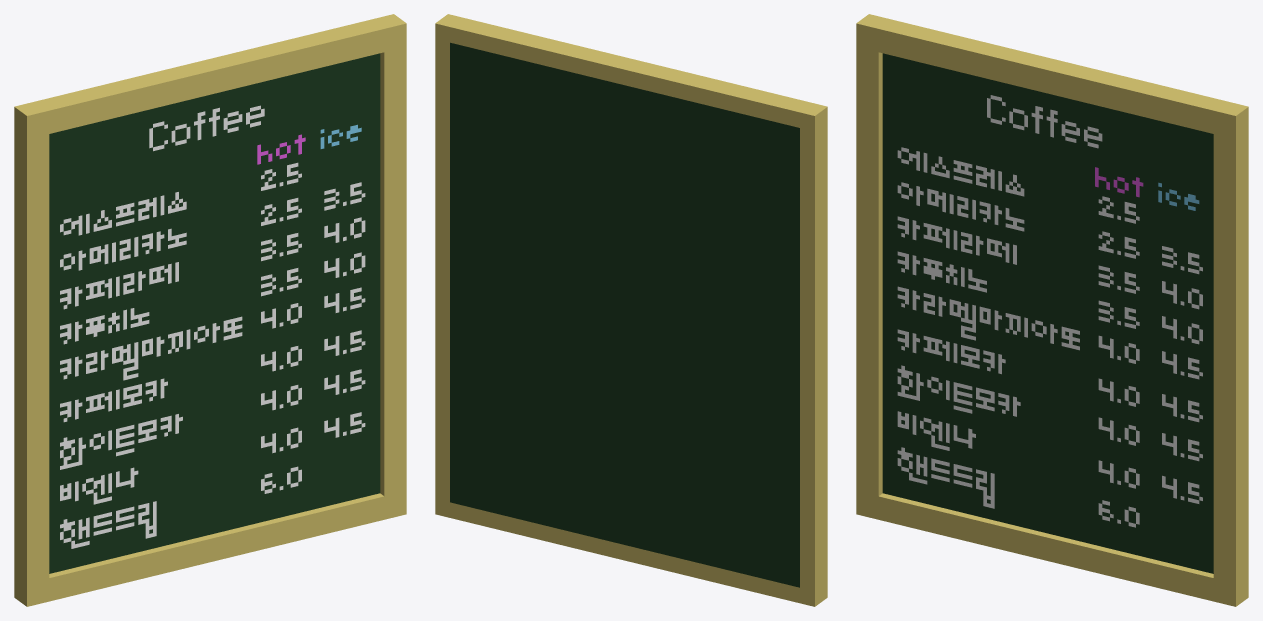
File: Cafe_Menu1.fbx
3 views of the same model, side by side, from view 1: azimuth 30°, elevation 25°; view 2: azimuth 150°, elevation 25°; view 3: azimuth 330°, elevation 25° (orthographic).
Parts seen in each view (by area): view 1: Cafe Menu1; view 2: Cafe Menu1; view 3: Cafe Menu1.
Part boxes in pixels (x1,y1,x2,y2): Cafe Menu1: [14, 14, 406, 606]; Cafe Menu1: [435, 14, 827, 606]; Cafe Menu1: [856, 14, 1248, 606].
Bounding box in the file's own units: 10.2 × 12.6 × 0.6.
